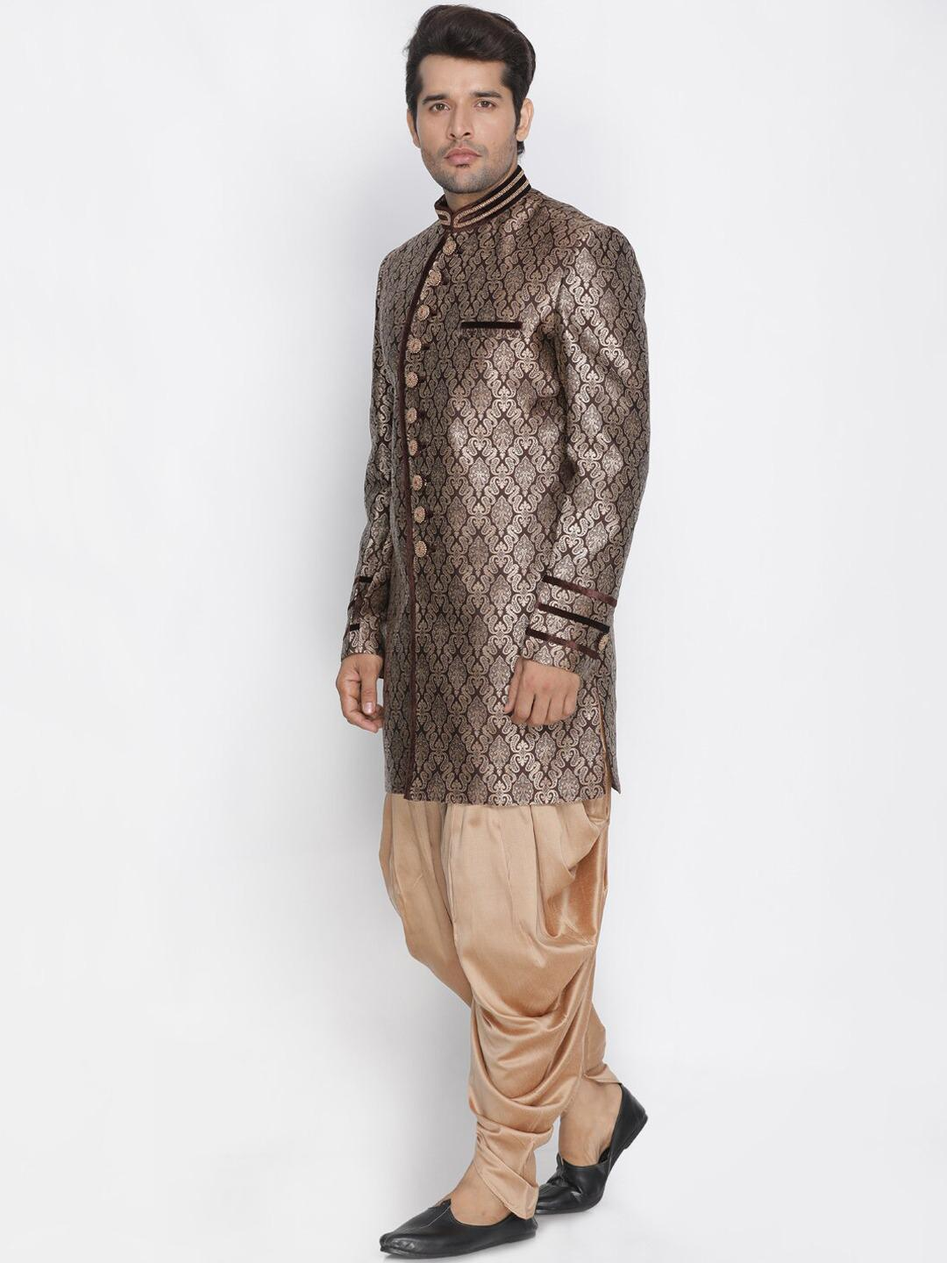Design Sherwani: (333, 169, 654, 812)
